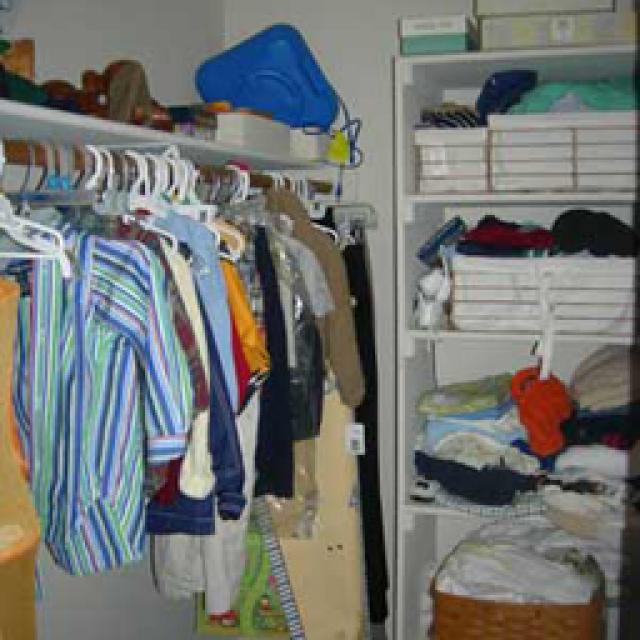basket food: (428, 572, 605, 635)
boxs: (450, 252, 632, 338), (490, 122, 570, 188), (412, 128, 485, 190)
clothing: (62, 185, 390, 620), (412, 340, 632, 528)
shelf crop: (0, 98, 320, 170)
shelves crop: (390, 42, 635, 635)
shirt: (2, 210, 188, 592)
